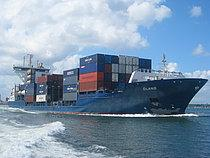Ship: (6, 49, 210, 121)
